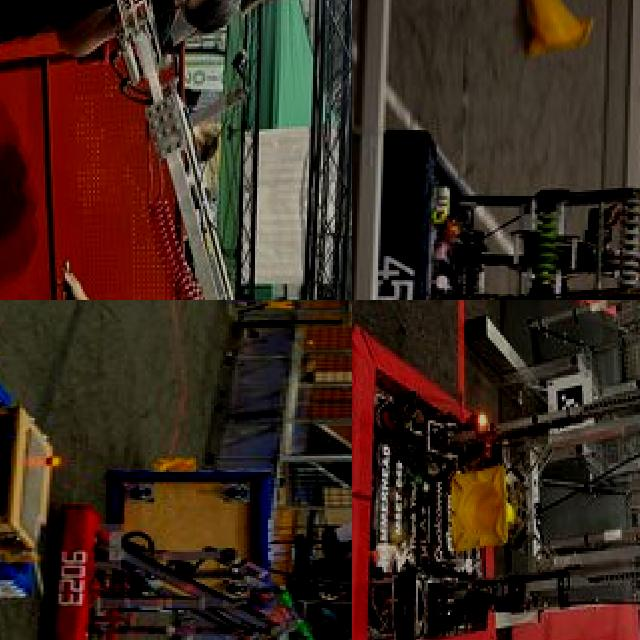FRC-Robots: (352, 300, 640, 640), (0, 0, 313, 300), (377, 100, 640, 300), (90, 441, 290, 613), (34, 513, 291, 640), (0, 345, 86, 597)
